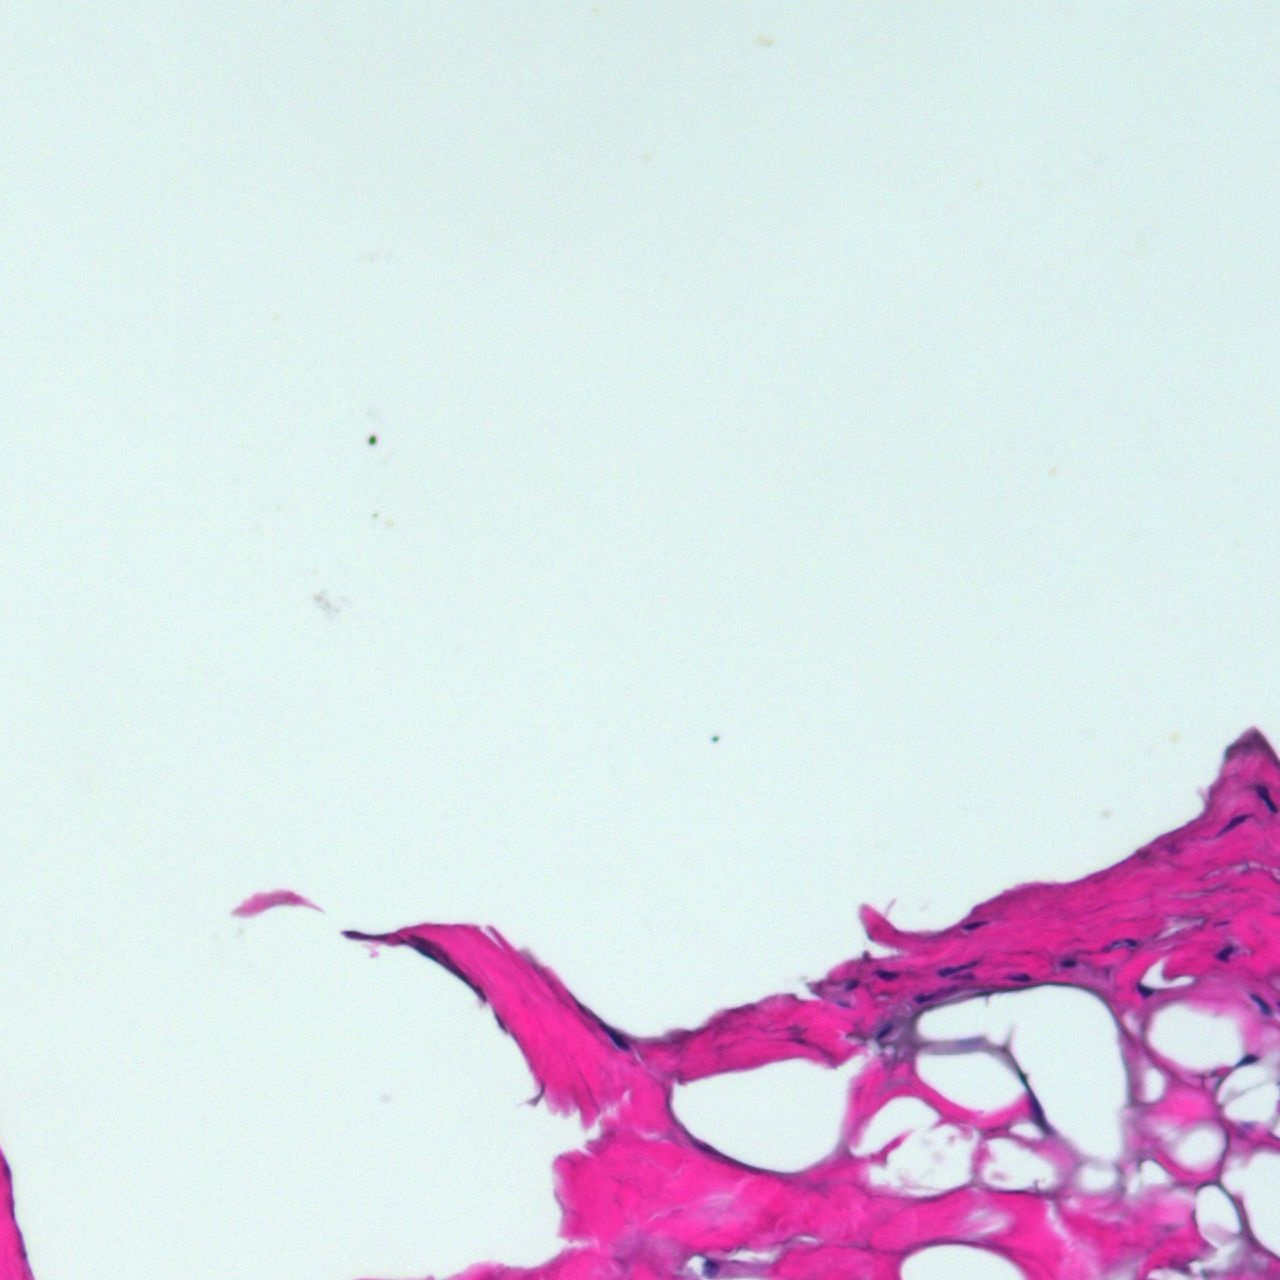dust: (760, 36, 772, 47), (367, 434, 376, 445), (712, 734, 720, 744), (1049, 467, 1056, 477), (386, 516, 392, 527)
nucleus-HE: (597, 1019, 629, 1053), (1247, 989, 1274, 1017), (1254, 783, 1279, 812), (1220, 810, 1247, 835), (1214, 941, 1235, 964), (699, 1257, 720, 1278), (1132, 980, 1155, 1000), (937, 962, 960, 978), (874, 1023, 892, 1040), (1238, 1053, 1257, 1067), (874, 969, 897, 980), (844, 978, 858, 992), (915, 993, 933, 1003), (1060, 958, 1077, 968), (1012, 973, 1030, 982), (964, 921, 982, 930), (1126, 939, 1137, 947)
